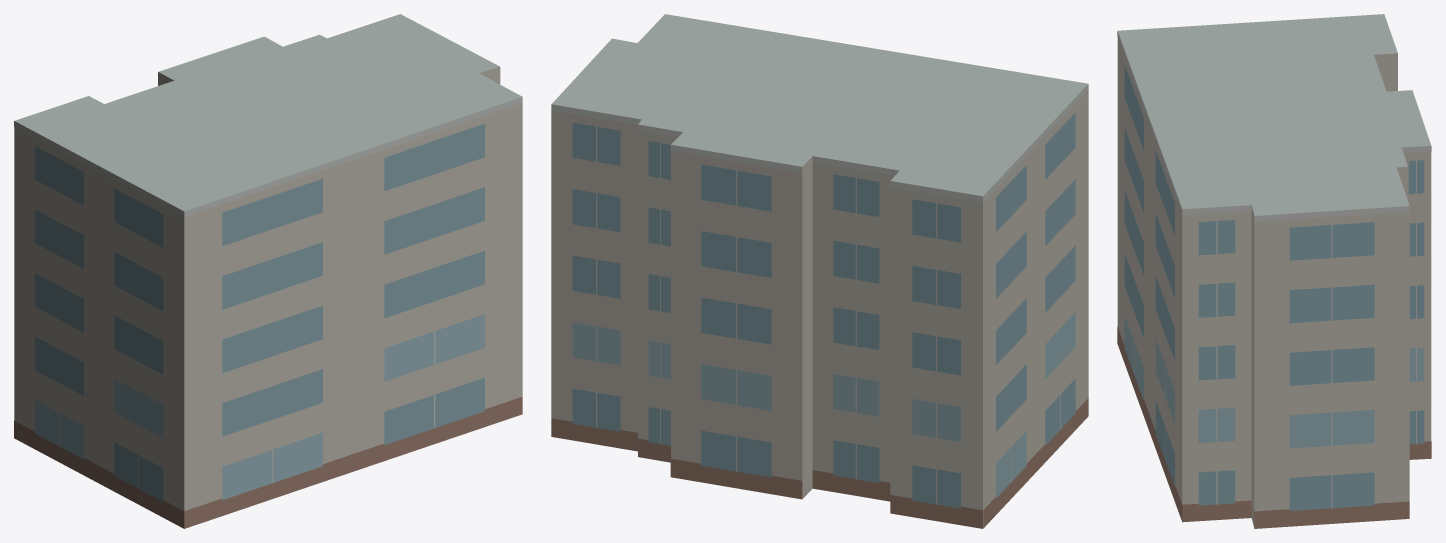
Rendered from survey-upis-32941904.glb.
The picture shows the model from 3 angles, left to right: view 1: azimuth 30°, elevation 25°; view 2: azimuth 150°, elevation 25°; view 3: azimuth 270°, elevation 25°; orthographic projection. The views are drawn at different scales.
Parts seen in each view (by area): view 1: survey-upis-32941904.tmp; view 2: survey-upis-32941904.tmp; view 3: survey-upis-32941904.tmp.
Boxes of the visible parts, left/top/right/bottom form: survey-upis-32941904.tmp: left=14, top=14, right=522, bottom=528; survey-upis-32941904.tmp: left=551, top=14, right=1088, bottom=528; survey-upis-32941904.tmp: left=1117, top=14, right=1431, bottom=528.
Size of the model in its own units: 18.36 by 13.25 by 12.06.
